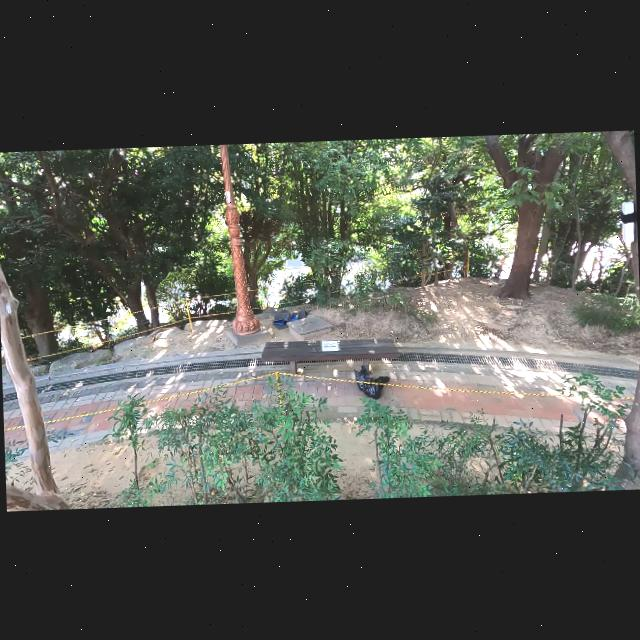trash: (272, 306, 312, 326), (352, 363, 374, 392), (362, 374, 383, 398), (369, 374, 389, 390)
